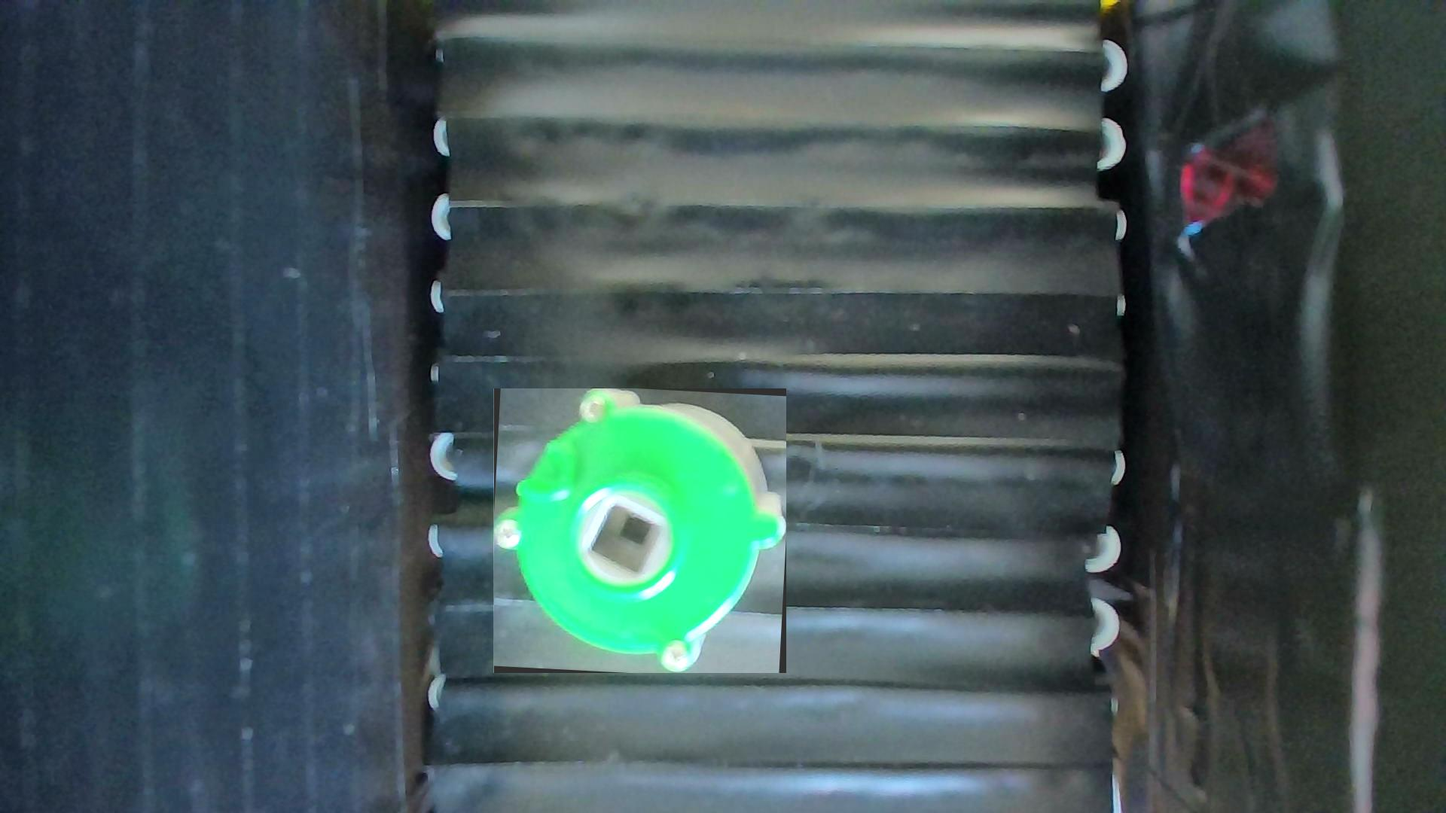cartridge: (493, 388, 786, 673)
